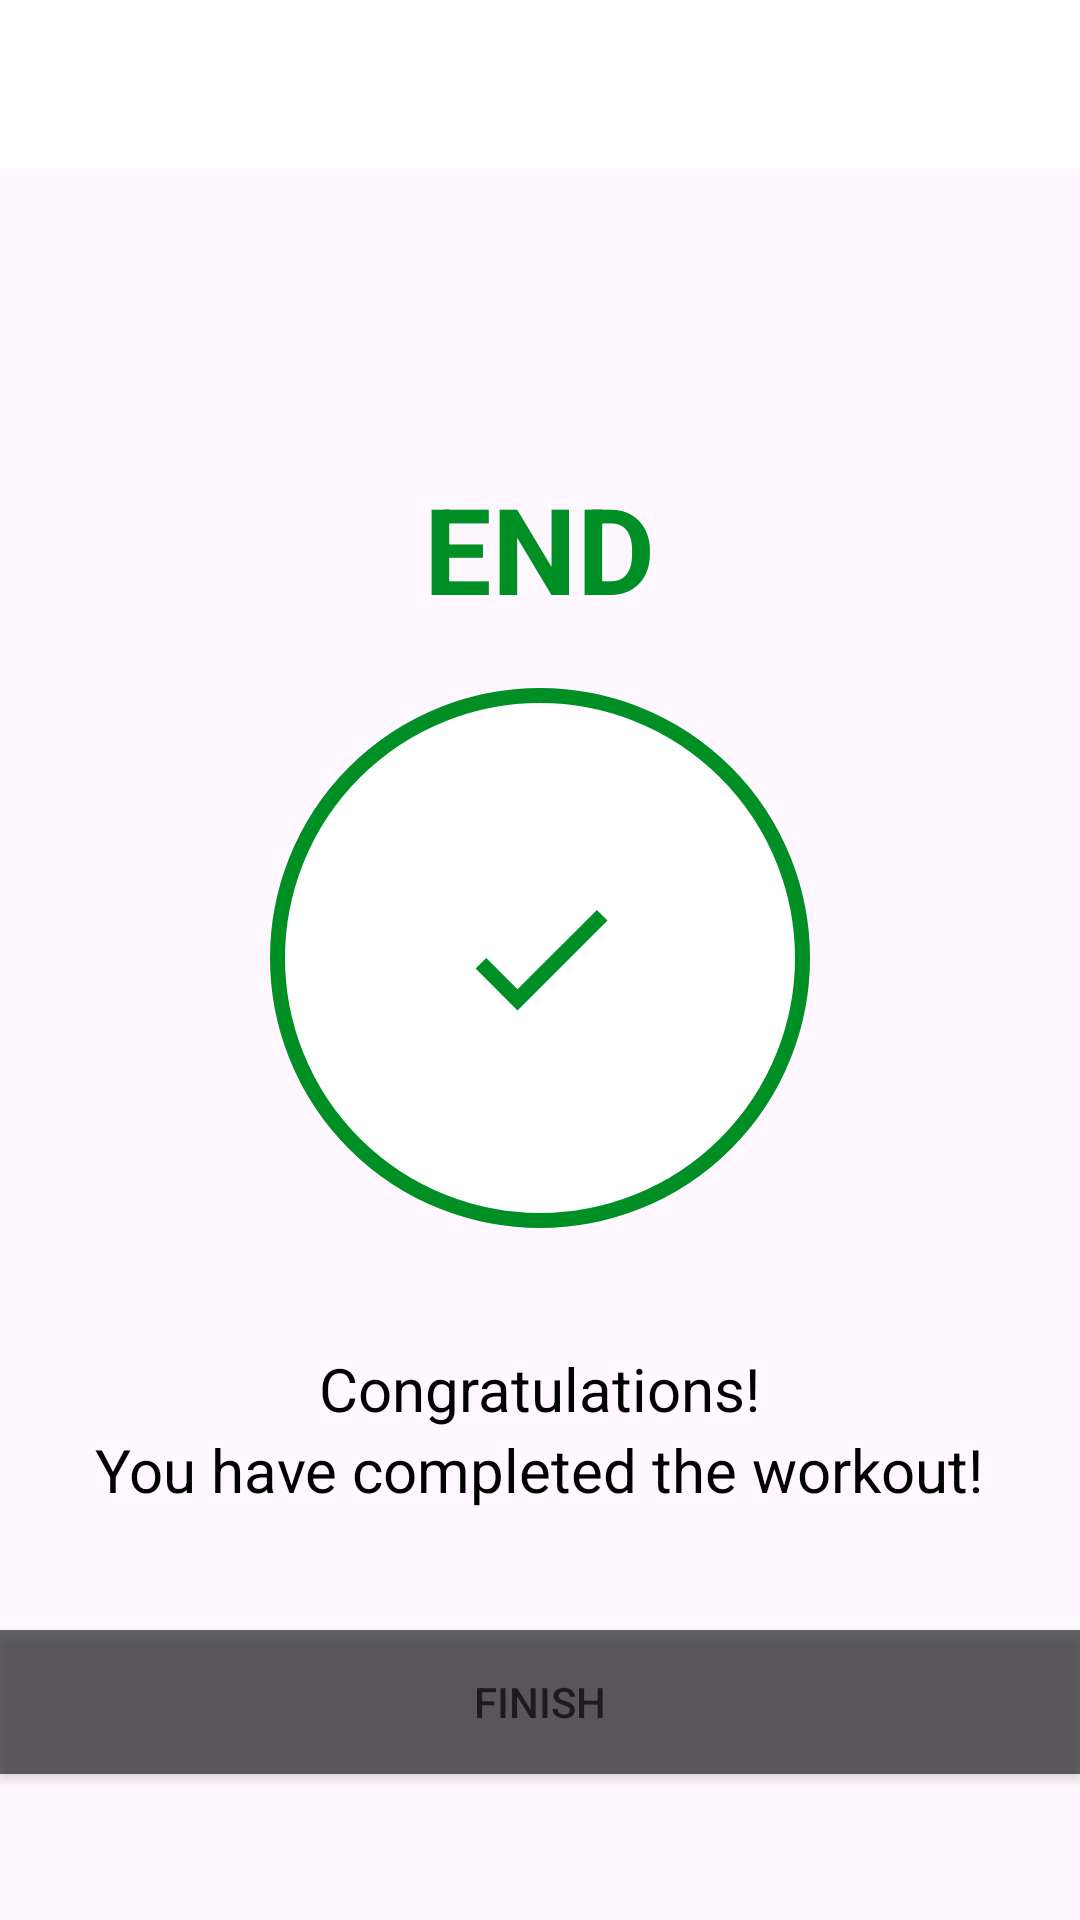

Point at icon controls on the screen. Image size 1080px×1920px, points as [x,y].
check: [541,960]
